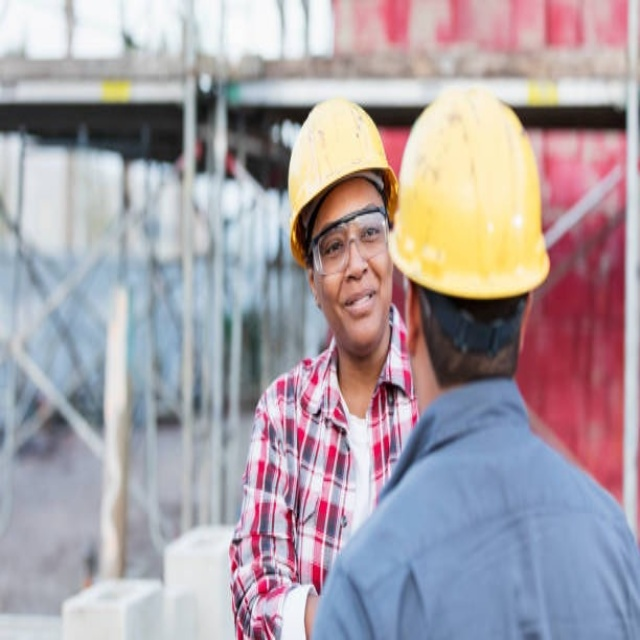Gafas: (310, 207, 389, 275)
Sin_mascara: (337, 282, 379, 333)
